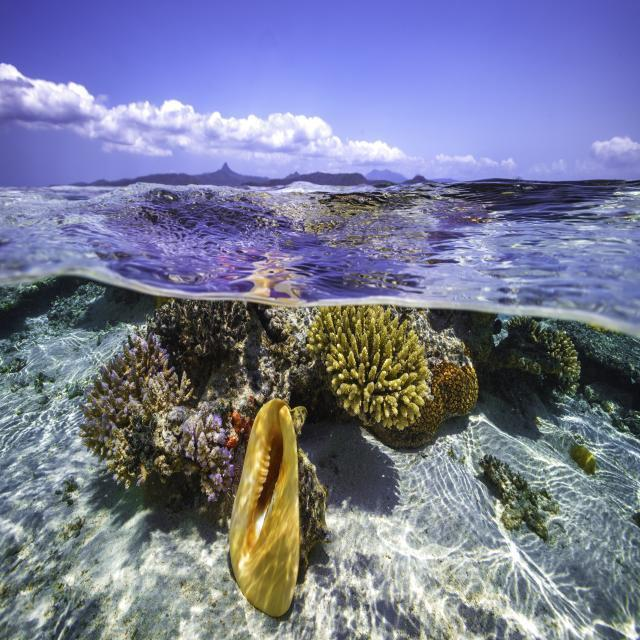Healthy Coral: (79, 332, 189, 538), (316, 308, 436, 436), (157, 398, 227, 515), (510, 323, 594, 401)
